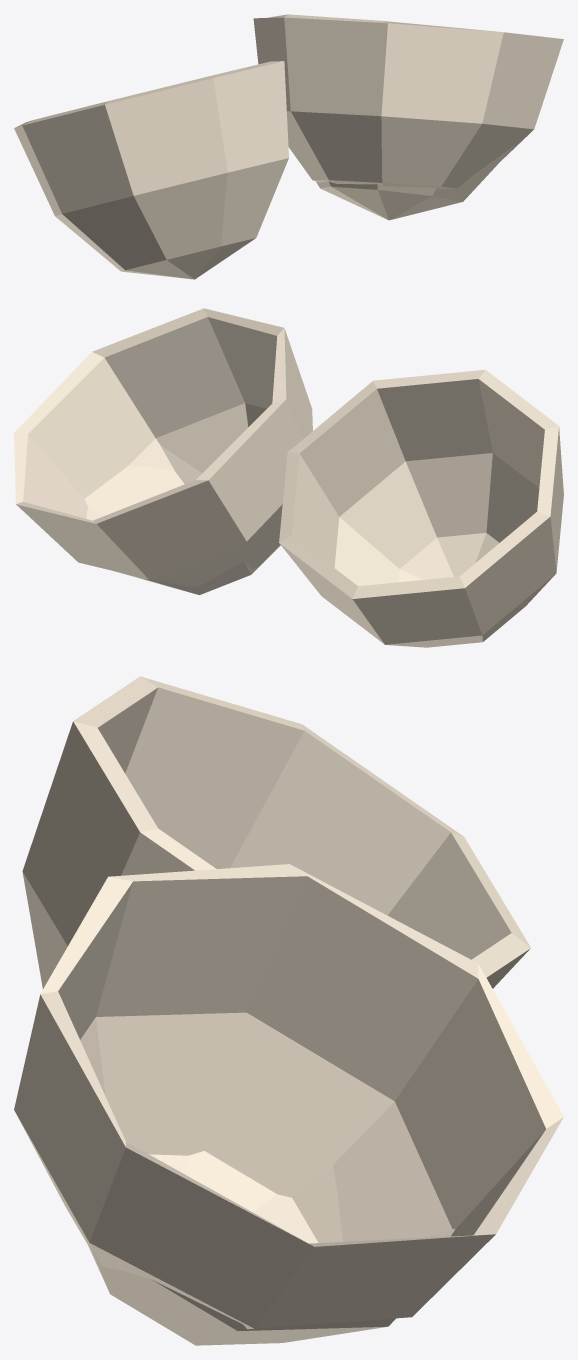
File: Basura_Organico_CascaraHuevo.fbx
3 renders of one model, top to bottom at view 1: azimuth 30°, elevation 25°; view 2: azimuth 150°, elevation 25°; view 3: azimuth 270°, elevation 25°, orthographic. The views are drawn at different scales.
Parts seen in each view (by area): view 1: Basura_Organico_CascaraHuevo; view 2: Basura_Organico_CascaraHuevo; view 3: Basura_Organico_CascaraHuevo.
Boxes of the visible parts, <box> form: Basura_Organico_CascaraHuevo: <box>14,14,563,279</box>; Basura_Organico_CascaraHuevo: <box>14,308,563,647</box>; Basura_Organico_CascaraHuevo: <box>14,676,563,1345</box>.
Bounding box in the file's own units: 0.8919 × 0.3799 × 0.4636.
1 material, 1 textured.
